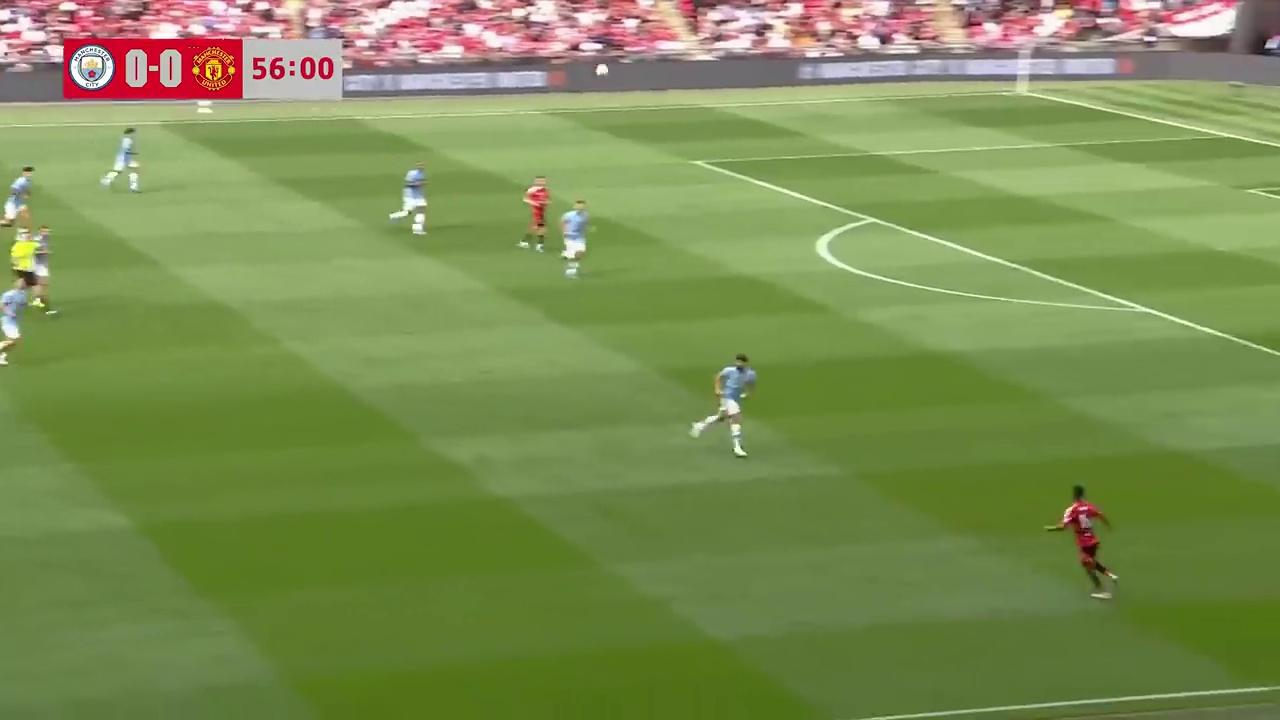player: (1052, 484, 1118, 600), (691, 353, 756, 458), (388, 162, 429, 236), (559, 198, 592, 279), (100, 127, 141, 192), (520, 175, 551, 252), (0, 166, 35, 229), (0, 281, 22, 367), (29, 224, 52, 303)
referee: (7, 229, 39, 312)
